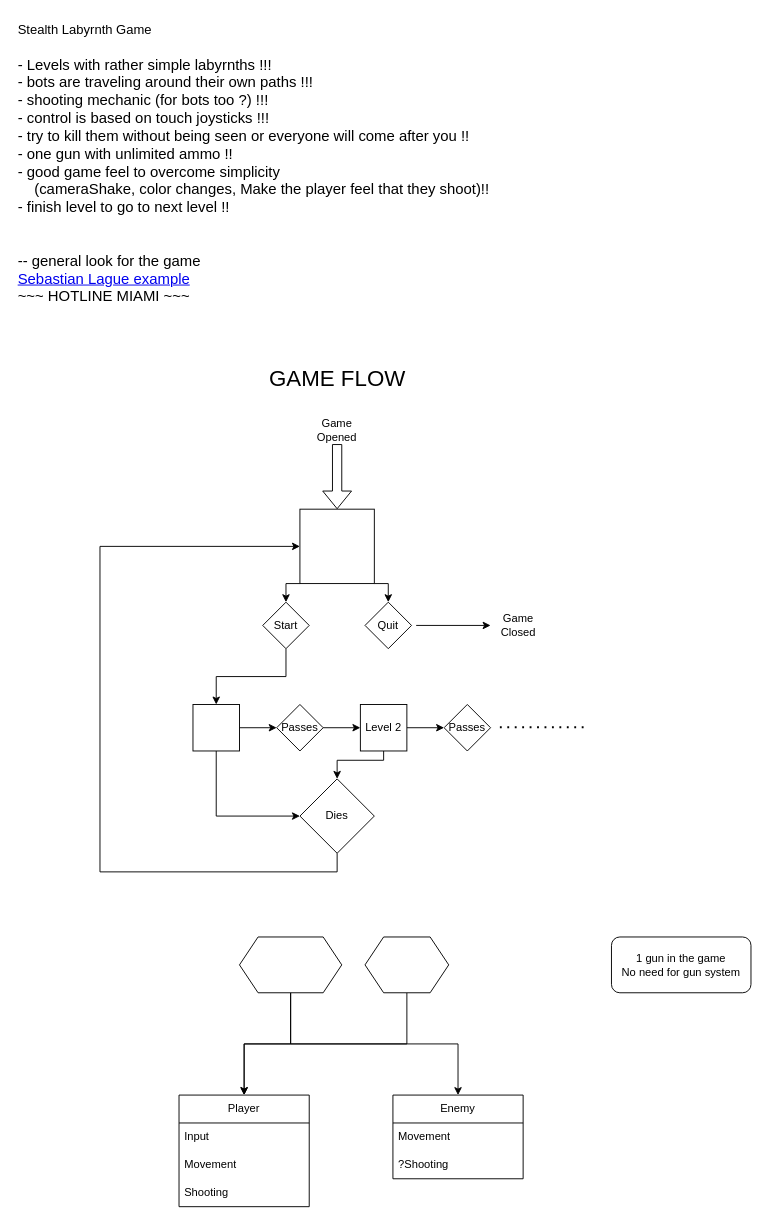
The diagram is 767 pixels wide and 1223 high, and some of its shapes have lost their labels. The shapes that lost their labels are listed below. From the top down, each one's centre as x and y in pixels, then its label:
At [336,546]: "Main Menu".
At [215,727]: "Level 1".
At [290,964]: "CanTakeDamage".
At [406,964]: "CanShoot".
